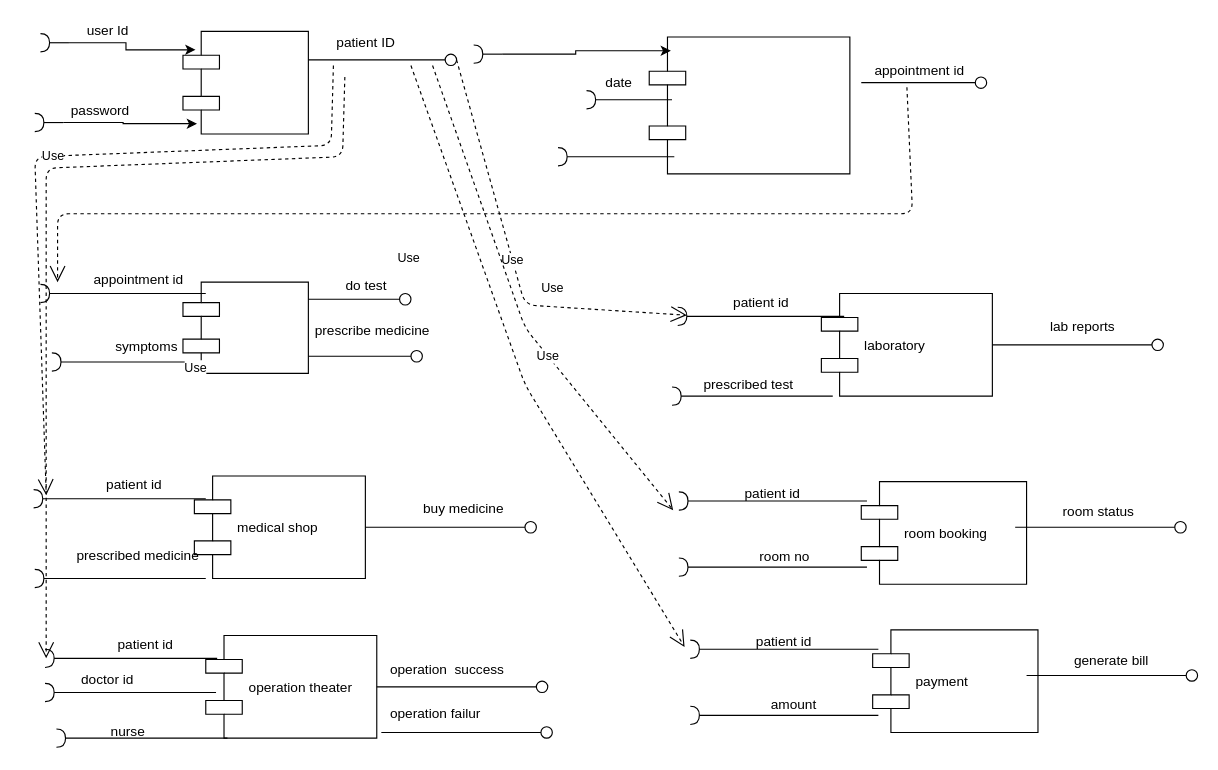
This 1218x770 diagram has some shape labels left out. Each missing label, with the centre of its shape:
"appointment booking" goes at point 749,105.
"criteria" goes at point 612,156.
"diagnosis" goes at point 245,327.
"Log In" goes at point 245,82.
